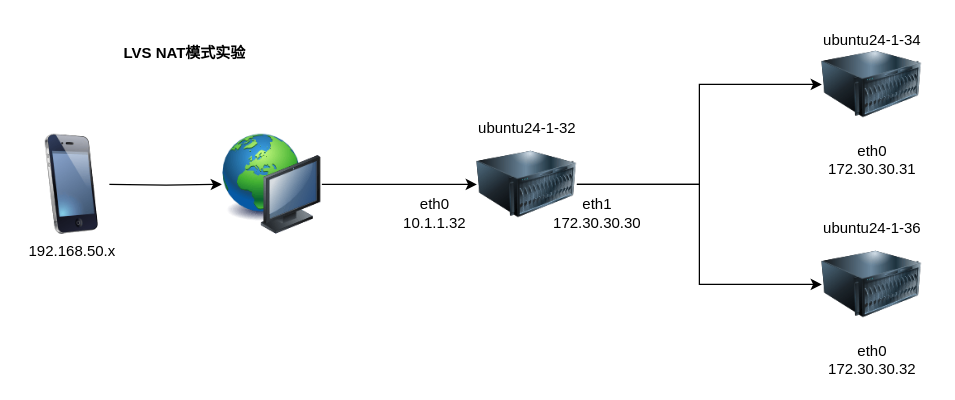
Image size: 955x400. Some labels were removed from this diagram. The centre of each missing label's shape, as x and y in pixels:
"LVS服务器，实现负载均衡 两个网卡，一个为net模式，一个为仅主机模式" belongs at (x=526, y=184).
"互联网" belongs at (x=271, y=184).
